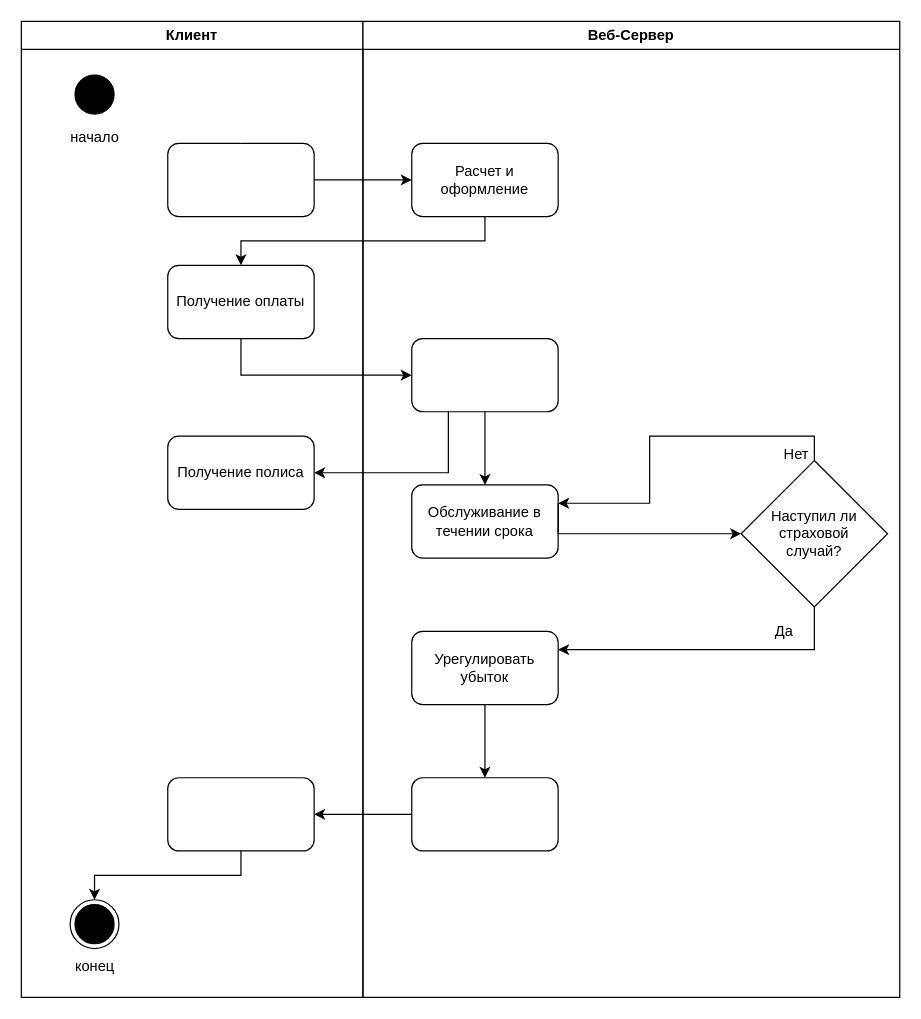
Image size: 921x1019. Some labels were removed from this diagram. Each missing label, with the centre of its shape:
Выдача полиса: point (484, 374)
Выплатить клиенту: point (484, 814)
Запрос клиента: point (240, 179)
Получить выплату: point (240, 814)
